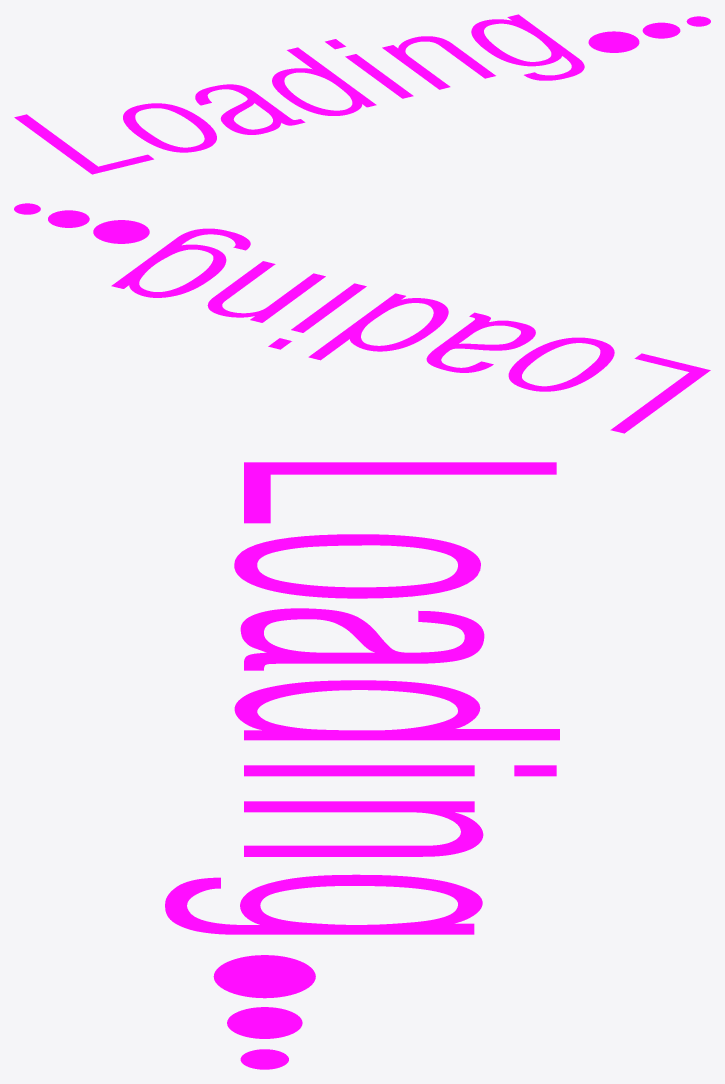
Rendered from loading.glb.
3 renders of one model, top to bottom at view 1: azimuth 30°, elevation 25°; view 2: azimuth 150°, elevation 25°; view 3: azimuth 270°, elevation 25°, orthographic. The views are drawn at different scales.
Visible parts, largest first — view 1: Text, Text.001, Text.002; view 2: Text, Text.001, Text.002; view 3: Text, Text.001, Text.002.
Boxes of the visible parts, x1=… form: Text: x1=14, y1=14, x2=584, y2=174; Text.001: x1=588, y1=31, x2=639, y2=52; Text.002: x1=642, y1=22, x2=680, y2=38; Text: x1=111, y1=228, x2=710, y2=433; Text.001: x1=93, y1=220, x2=149, y2=243; Text.002: x1=48, y1=210, x2=89, y2=227; Text: x1=165, y1=462, x2=559, y2=934; Text.001: x1=213, y1=955, x2=315, y2=998; Text.002: x1=227, y1=1007, x2=302, y2=1038.
Bounding box in the file's own units: 3.55 × 0 × 0.9757.
